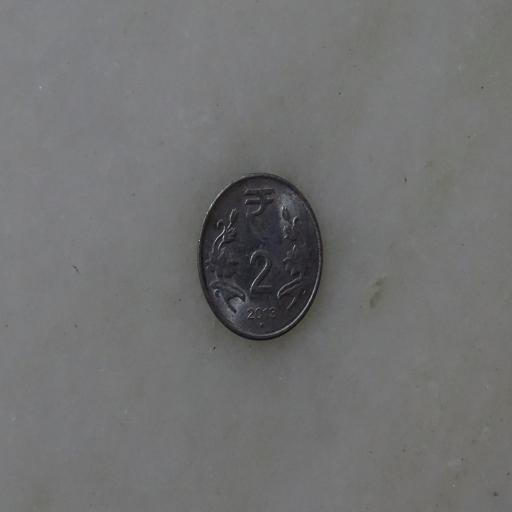rupee2: (196, 170, 326, 341)
